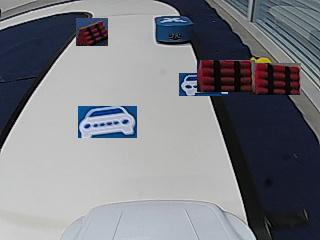prop: (155, 16, 194, 45)
